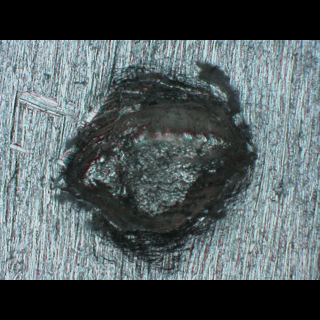d: (41, 52, 260, 277)
